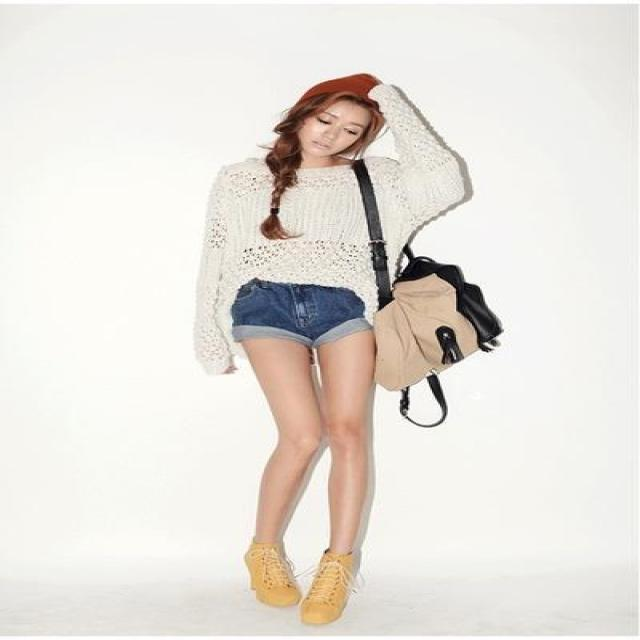bag: (350, 159, 493, 396)
jacket: (192, 81, 462, 370)
shoe: (245, 525, 360, 624)
shorts: (230, 278, 365, 358)
